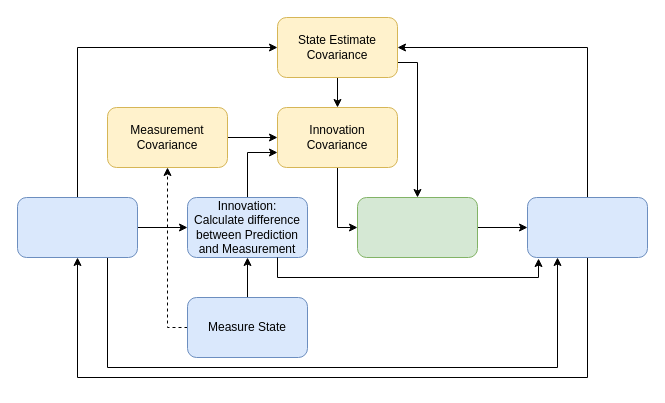
The diagram is 665 pixels wide and 403 high, and some of its shapes have lost their labels. Each missing label, with the centre of its shape:
Estimate State: the point at 77,227
Kalman Gain 0 <= K <= 1: the point at 417,227
Update State Estimate: the point at 587,227
